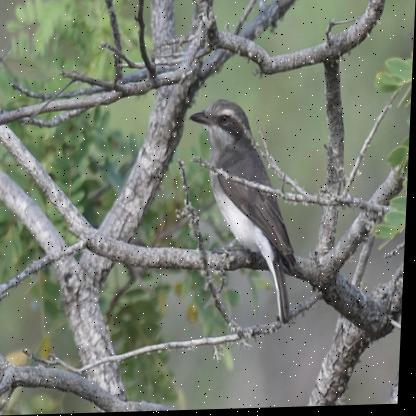Burung: (182, 98, 303, 327)
